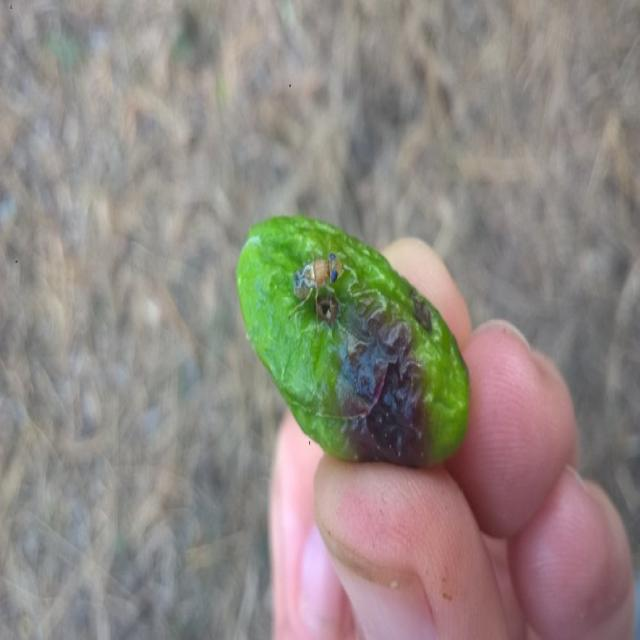Olive Fruit Fly: (237, 215, 469, 467)
